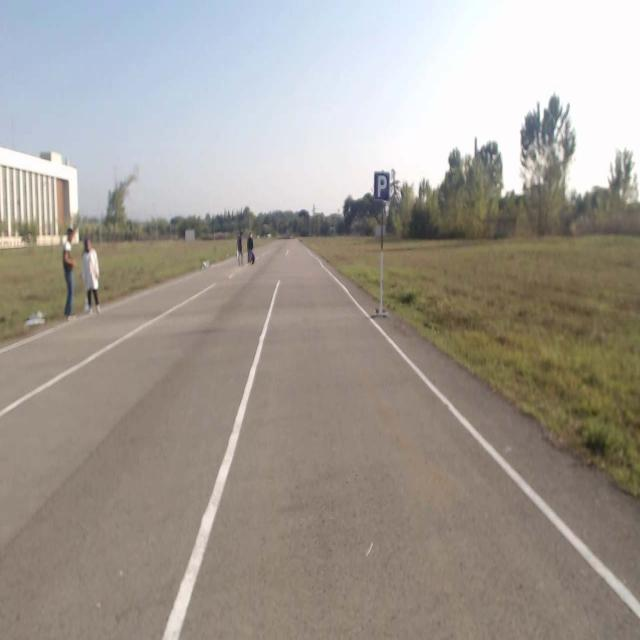park: (374, 172, 389, 200)
